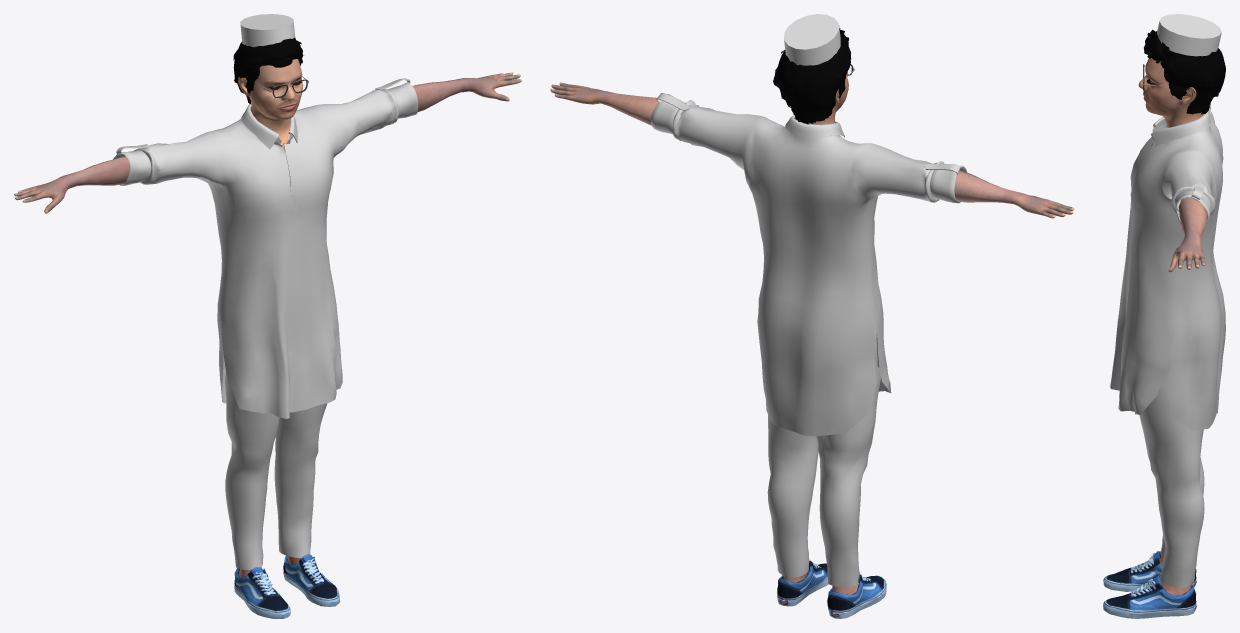
File: character.fbx
The picture shows the model from 3 angles, left to right: view 1: azimuth 30°, elevation 25°; view 2: azimuth 150°, elevation 25°; view 3: azimuth 270°, elevation 25°; orthographic projection. The views are drawn at different scales.
Parts seen in each view (by area): view 1: Object_31, Object_7, Object_29, mesh_4, Object_27, Cylinder; view 2: Object_31, Object_7, Object_27, Object_29, Cylinder; view 3: Object_31, Object_29, Object_27, Cylinder, mesh_4, Object_7.
Part boxes in pixels (left/top/right/bottom): Object_31: left=113, top=78, right=418, bottom=569; Object_7: left=14, top=72, right=521, bottom=577; Object_29: left=234, top=554, right=339, bottom=618; mesh_4: left=238, top=59, right=303, bottom=147; Object_27: left=233, top=37, right=303, bottom=103; Cylinder: left=240, top=14, right=295, bottom=47; Object_31: left=650, top=93, right=966, bottom=586; Object_7: left=550, top=82, right=1074, bottom=594; Object_27: left=773, top=28, right=851, bottom=124; Object_29: left=777, top=560, right=886, bottom=618; Cylinder: left=784, top=14, right=840, bottom=65; Object_31: left=1110, top=102, right=1225, bottom=587; Object_29: left=1103, top=551, right=1196, bottom=618; Object_27: left=1144, top=29, right=1225, bottom=114; Cylinder: left=1157, top=14, right=1221, bottom=56; mesh_4: left=1138, top=58, right=1203, bottom=127; Object_7: left=1159, top=198, right=1206, bottom=595.
Size of the model in its own units: 177 by 190 by 36.6.
